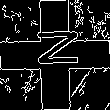N_W: (29, 35, 81, 75)
